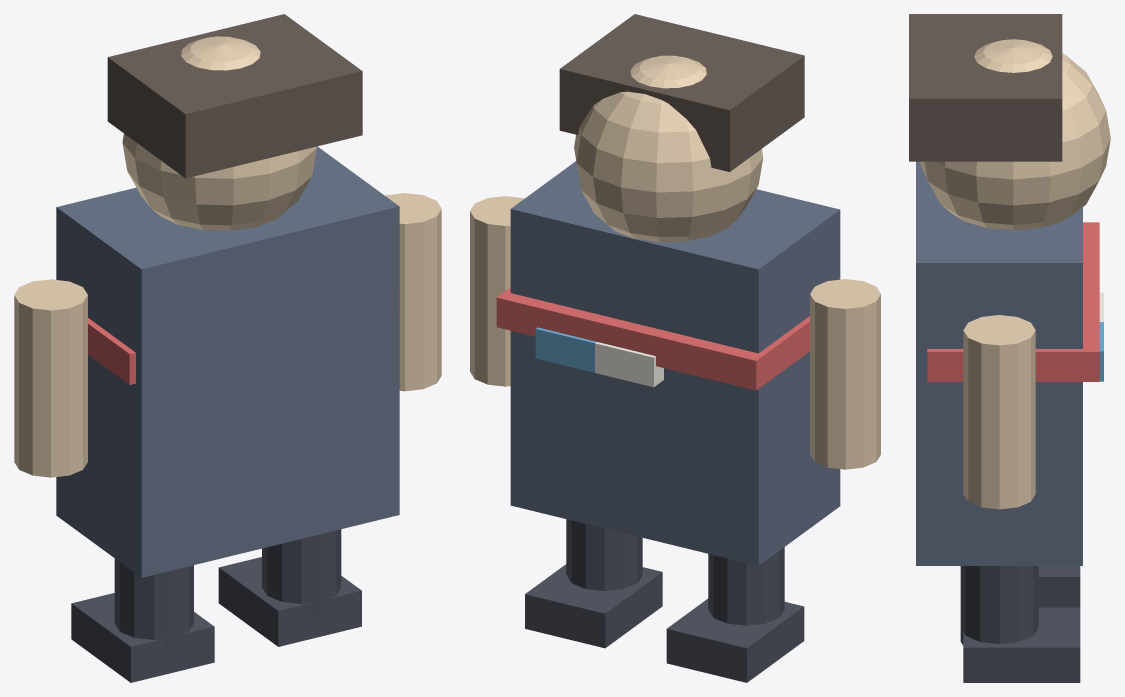
Rendered from cartes_stylized_v1.glb.
3 views of the same model, side by side, from view 1: azimuth 30°, elevation 25°; view 2: azimuth 150°, elevation 25°; view 3: azimuth 270°, elevation 25° (orthographic). The views are drawn at different scales.
Visible parts, largest first — view 1: Torso, Hair, ArmL, Head, ArmR, FootL, FootR, LegL, LegR, SashR; view 2: Torso, Head, Hair, ArmL, SashR, FootL, FootR, ArmR, LegL, LegR, SashW, SashB; view 3: Torso, Hair, Head, ArmR, FootR, LegR, SashR, FootL.
Boxes of the visible parts, <box> form: Torso: <box>56,146,399,577</box>; Hair: <box>107,14,362,178</box>; ArmL: <box>14,279,87,477</box>; Head: <box>122,36,316,230</box>; ArmR: <box>385,193,441,391</box>; FootL: <box>71,593,214,682</box>; FootR: <box>218,557,361,646</box>; LegL: <box>114,558,193,652</box>; LegR: <box>262,529,341,616</box>; SashR: <box>88,288,399,384</box>; Torso: <box>510,161,840,565</box>; Head: <box>574,55,763,242</box>; Hair: <box>559,14,804,171</box>; ArmL: <box>810,279,880,469</box>; SashR: <box>496,287,809,390</box>; FootL: <box>666,598,804,682</box>; FootR: <box>525,564,662,648</box>; ArmR: <box>470,196,524,386</box>; LegL: <box>708,547,784,625</box>; LegR: <box>566,519,642,591</box>; SashW: <box>595,342,663,387</box>; SashB: <box>535,327,596,372</box>; Torso: <box>916,161,1082,565</box>; Hair: <box>909,14,1062,161</box>; Head: <box>920,39,1110,230</box>; ArmR: <box>963,315,1035,509</box>; FootR: <box>963,607,1080,682</box>; LegR: <box>960,566,1038,645</box>; SashR: <box>927,222,1099,381</box>; FootL: <box>1038,566,1080,607</box>.
Bounding box in the file's own units: 1.7 × 2.3 × 0.725.
